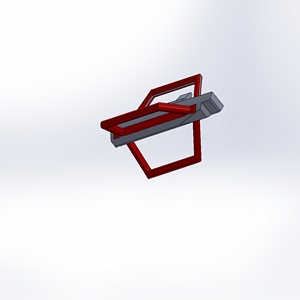submarine: (95, 64, 226, 181)
